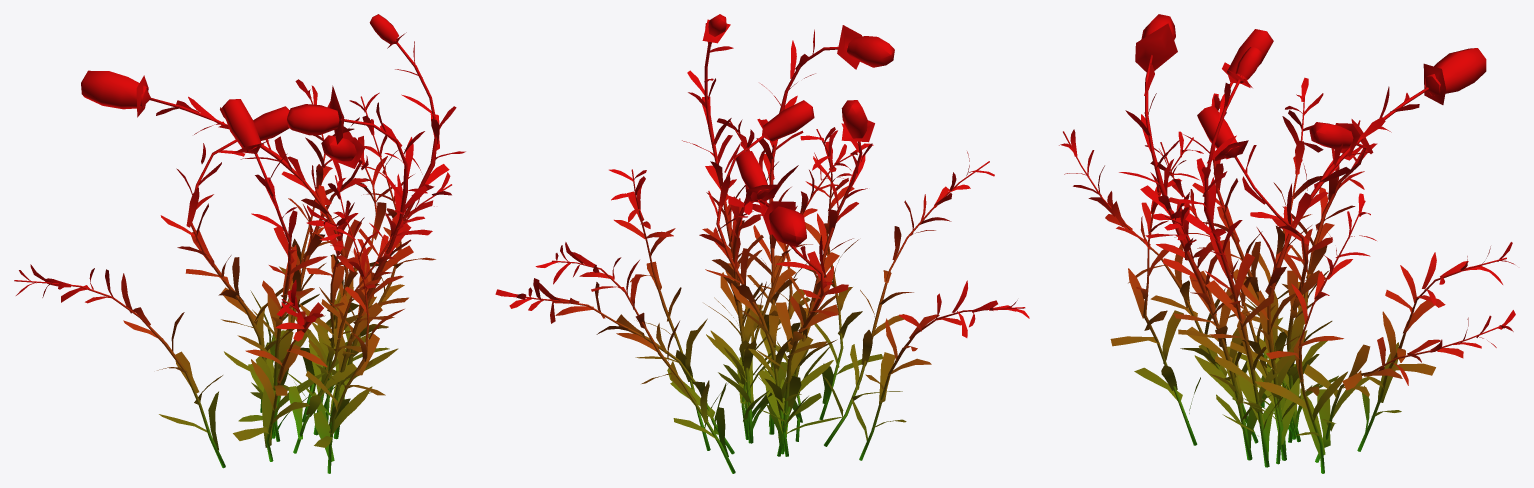
The model's file is Var6_LOD1.fbx.
3 renders of one model, left to right at view 1: azimuth 30°, elevation 25°; view 2: azimuth 150°, elevation 25°; view 3: azimuth 270°, elevation 25°, orthographic. The views are drawn at different scales.
Parts seen in each view (by area): view 1: _u0a1_Var6_LOD1; view 2: _u0a1_Var6_LOD1; view 3: _u0a1_Var6_LOD1.
Part boxes in pixels (bbox=[...]): _u0a1_Var6_LOD1: bbox=[14, 14, 465, 473]; _u0a1_Var6_LOD1: bbox=[495, 14, 1029, 473]; _u0a1_Var6_LOD1: bbox=[1059, 14, 1515, 473].
Size of the model in its own units: 32.81 by 29.53 by 28.09.
